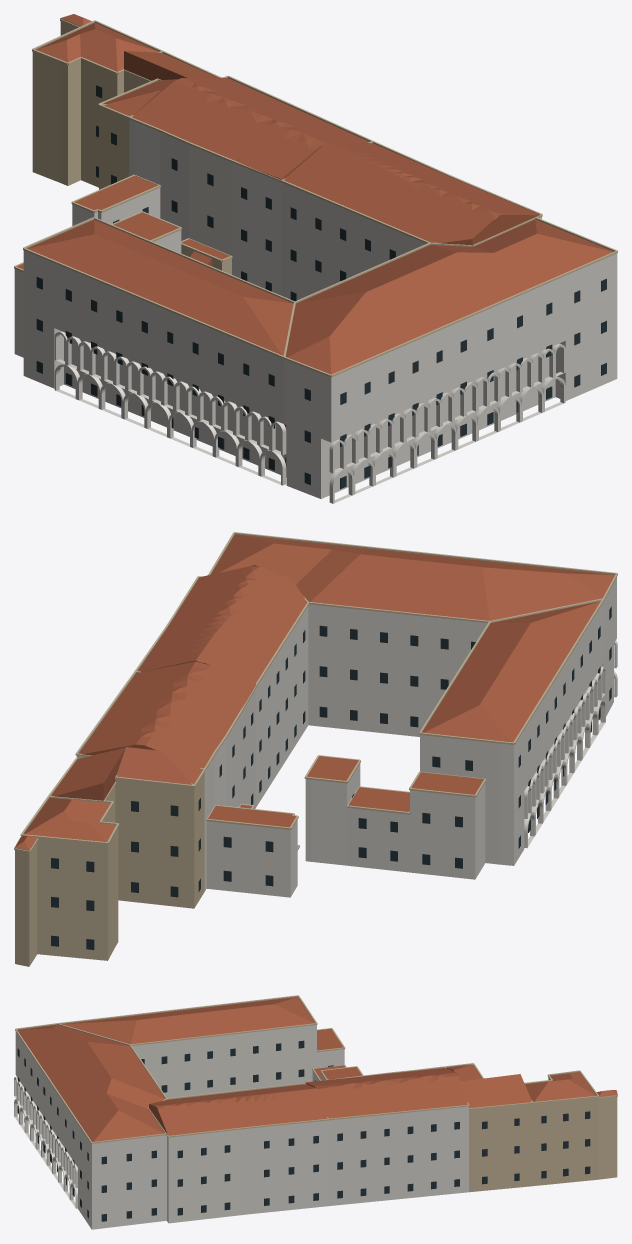
File: doges-palace.glb
3 renders of one model, top to bottom at view 1: azimuth 30°, elevation 25°; view 2: azimuth 150°, elevation 25°; view 3: azimuth 270°, elevation 25°, orthographic. The views are drawn at different scales.
Visible parts, largest first — view 1: mapped-part (×2), mapped-roof, open-loggia, cornice, window-rhythm; view 2: mapped-part (×2), mapped-roof, cornice, window-rhythm, open-loggia, primary-envelope; view 3: mapped-part (×2), mapped-roof, cornice, window-rhythm, open-loggia, primary-envelope.
Boxes of the visible parts, box(x1,y1,x2,y2) form: mapped-part (×2): box(14, 52, 617, 498); mapped-roof: box(17, 22, 613, 374); open-loggia: box(54, 331, 565, 503); cornice: box(14, 18, 617, 377); window-rhythm: box(36, 85, 606, 489); mapped-part (×2): box(37, 577, 616, 960); mapped-roof: box(24, 534, 614, 841); cornice: box(14, 532, 617, 852); window-rhythm: box(51, 606, 611, 949); open-loggia: box(524, 640, 617, 848); primary-envelope: box(15, 838, 37, 966); mapped-part (×2): box(15, 1025, 598, 1229); mapped-roof: box(17, 997, 596, 1141); cornice: box(15, 995, 617, 1143); window-rhythm: box(17, 1040, 590, 1221); open-loggia: box(14, 1077, 77, 1208); primary-envelope: box(598, 1095, 617, 1179).
Size of the model in its own units: 9.25 by 3.02 by 16.
